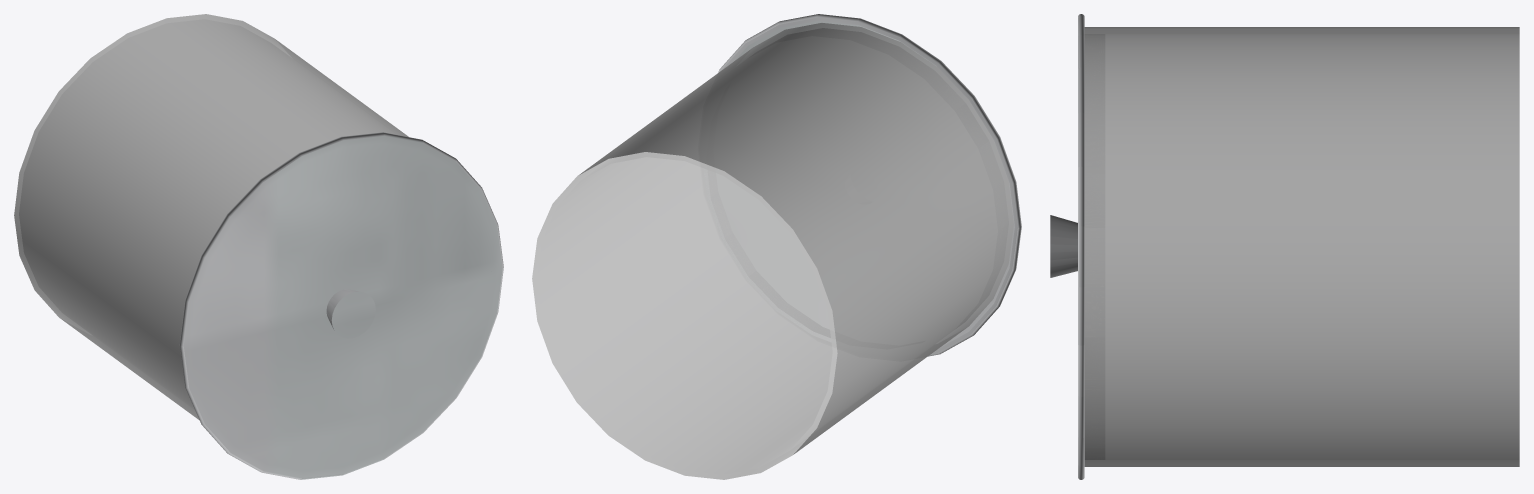
File: model_align.obj
The picture shows the model from 3 angles, left to right: view 1: azimuth 30°, elevation 25°; view 2: azimuth 150°, elevation 25°; view 3: azimuth 270°, elevation 25°; orthographic projection. The views are drawn at different scales.
Visible parts, largest first — view 1: mesh1_mesh1-geometry; view 2: mesh1_mesh1-geometry; view 3: mesh1_mesh1-geometry.
Part boxes in pixels (x1,y1,x2,y2): mesh1_mesh1-geometry: [14, 14, 503, 479]; mesh1_mesh1-geometry: [532, 14, 1021, 479]; mesh1_mesh1-geometry: [1050, 14, 1519, 479].
Size of the model in its own units: 0.16 by 0.16 by 0.1606.
Materials: 2 (1 with a texture image).
